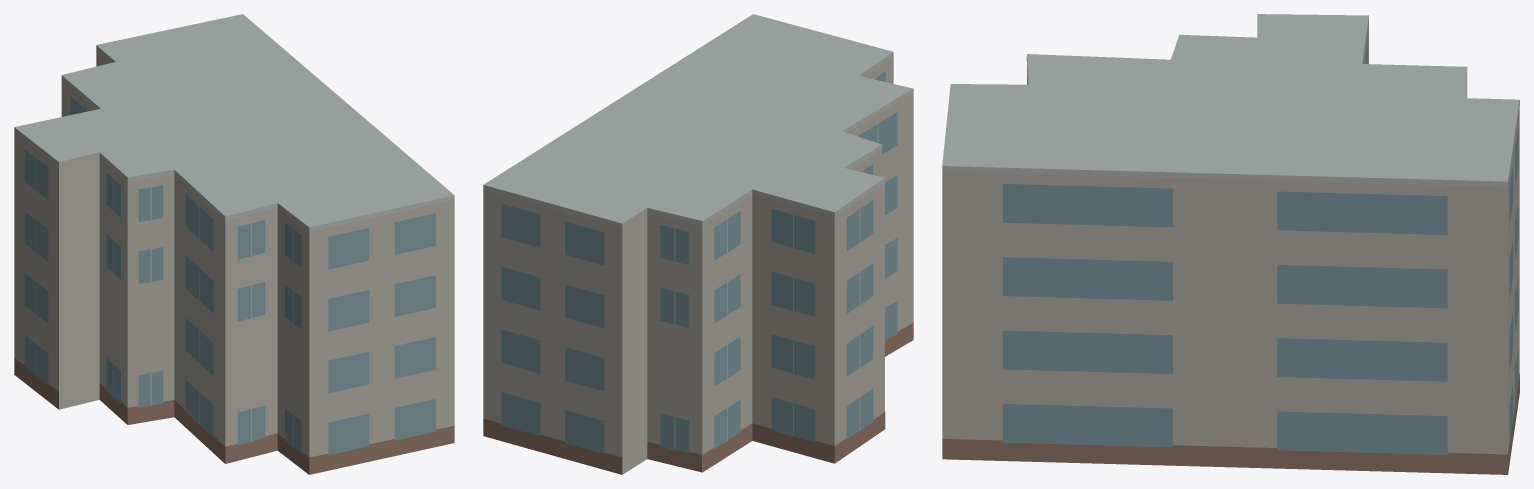
Rendered from survey-upis-32480658.glb.
The picture shows the model from 3 angles, left to right: view 1: azimuth 30°, elevation 25°; view 2: azimuth 150°, elevation 25°; view 3: azimuth 270°, elevation 25°; orthographic projection. The views are drawn at different scales.
Parts seen in each view (by area): view 1: survey-upis-32480658.tmp; view 2: survey-upis-32480658.tmp; view 3: survey-upis-32480658.tmp.
Boxes of the visible parts, box(x1,y1,x2,y2) form: survey-upis-32480658.tmp: box(14, 14, 454, 474); survey-upis-32480658.tmp: box(483, 14, 913, 474); survey-upis-32480658.tmp: box(942, 14, 1519, 474).
Size of the model in its own units: 16.74 by 13.65 by 24.37.
